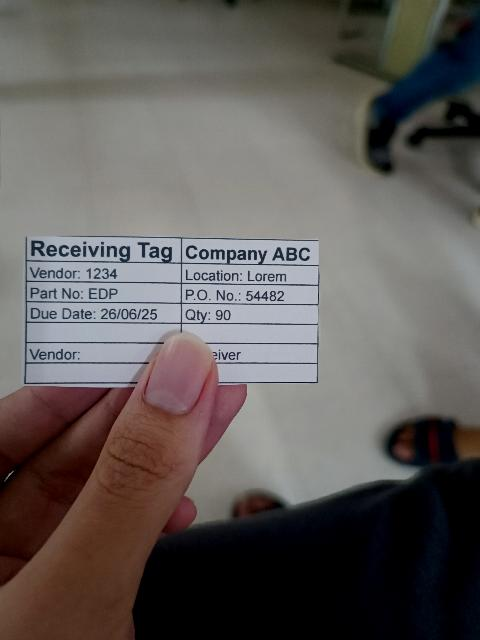PO no: (182, 284, 318, 306)
part no: (25, 281, 182, 303)
qty: (181, 302, 317, 325)
tags: (24, 236, 319, 387)
